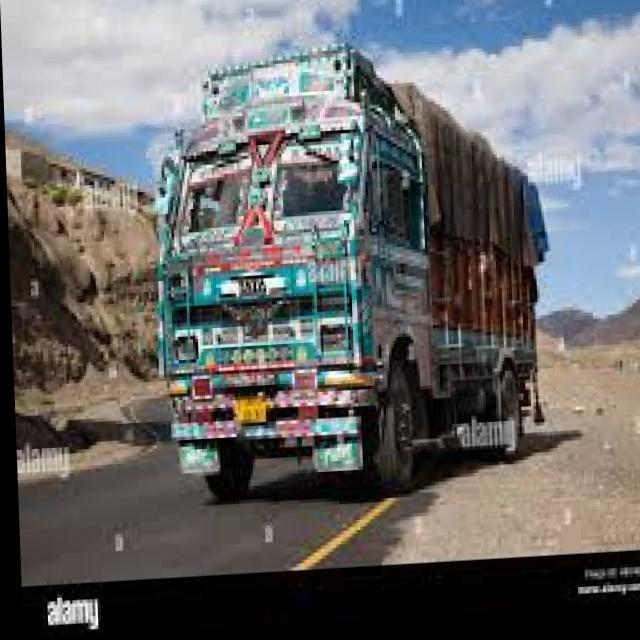covered: (142, 31, 553, 506)
